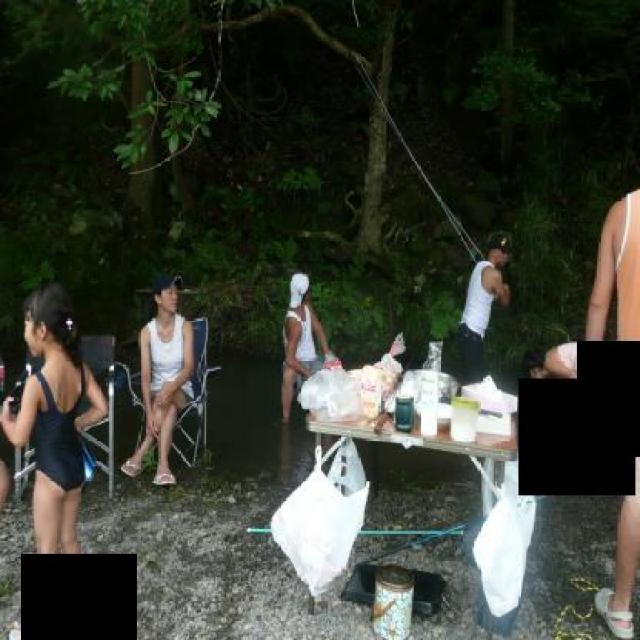plastic bag: (269, 444, 369, 594), (469, 482, 537, 616), (480, 426, 546, 516), (297, 364, 363, 422), (328, 436, 364, 496)
